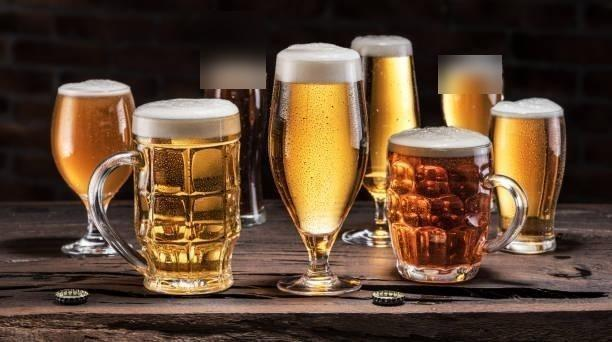glass-mug: (88, 96, 245, 298), (384, 124, 528, 286)
glass-normal: (488, 99, 569, 255)
glass-wine: (265, 43, 370, 297), (347, 34, 422, 251), (48, 78, 137, 258)
